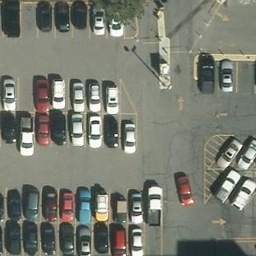car: (3, 1, 25, 38), (217, 137, 242, 168), (234, 177, 256, 211), (147, 187, 163, 224), (35, 1, 53, 31), (54, 1, 72, 31), (90, 5, 108, 35), (33, 78, 51, 108), (50, 77, 68, 107), (69, 80, 87, 110), (86, 80, 104, 110), (102, 81, 120, 111), (124, 120, 142, 150), (103, 115, 121, 145), (87, 115, 105, 145), (68, 114, 86, 144), (50, 112, 68, 142), (35, 114, 53, 144), (17, 125, 35, 155), (7, 186, 25, 216), (4, 220, 22, 250), (23, 220, 41, 250), (39, 222, 57, 252), (59, 223, 77, 253), (74, 223, 92, 253), (94, 224, 112, 254), (110, 225, 128, 255), (128, 226, 146, 256), (128, 193, 146, 223), (177, 176, 195, 206), (24, 190, 42, 220), (43, 188, 61, 218), (57, 192, 75, 222), (74, 192, 92, 222), (94, 192, 112, 222), (111, 194, 129, 224), (217, 174, 235, 204), (219, 61, 237, 91), (72, 1, 90, 30), (1, 81, 18, 111), (239, 137, 255, 168), (203, 63, 218, 92)
